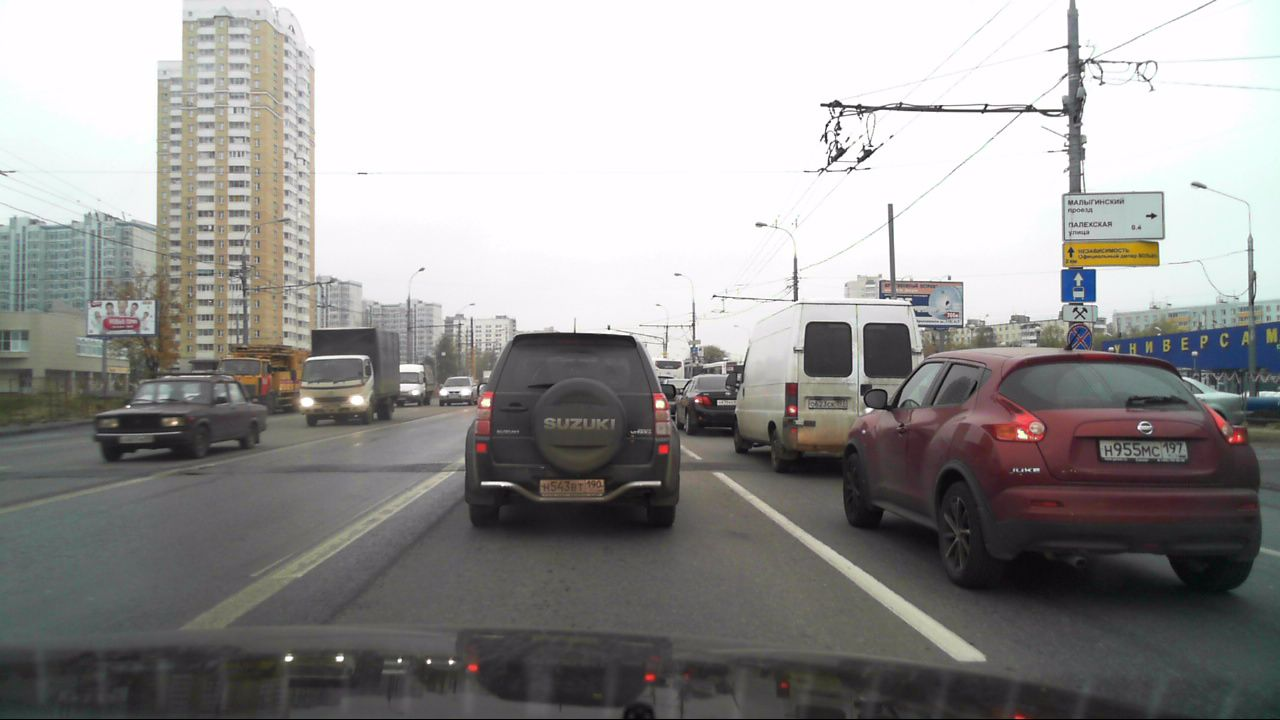No Parking: (1065, 325, 1092, 352)
